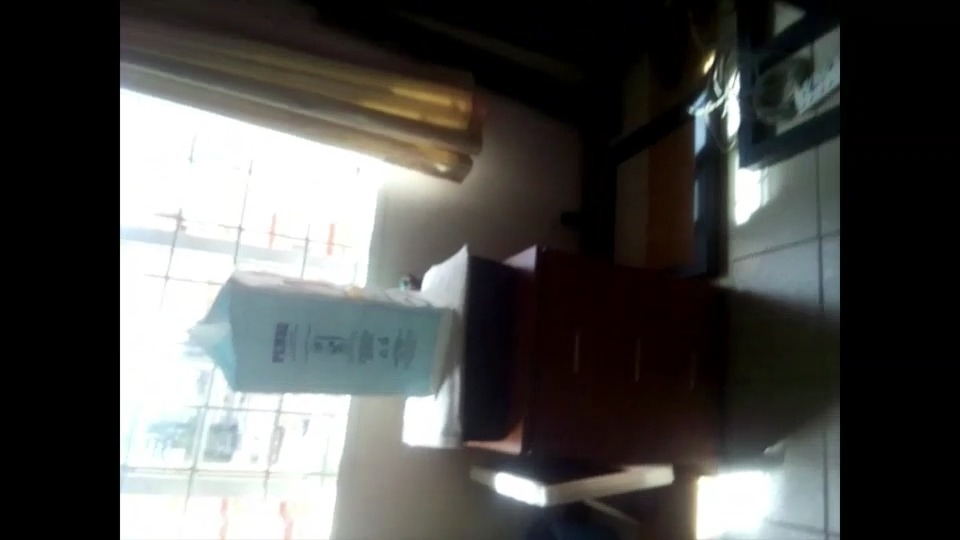wheat_flour_blue_label: (199, 264, 777, 540)
